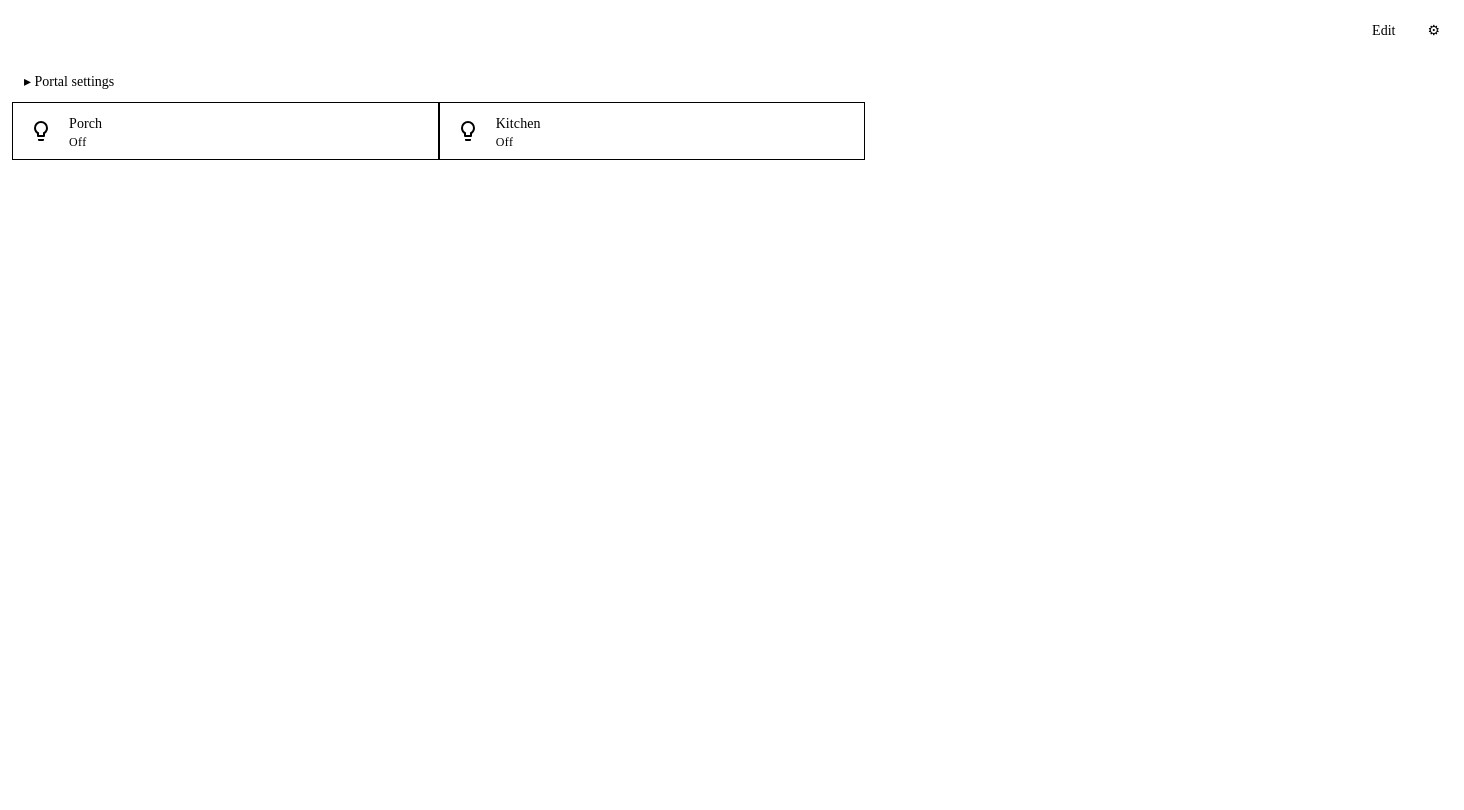
Scenario: Portal page › Edit mode › opens the tapped device editor instead of actuating it
Click the button "Edit": (1384, 30) [1360, 12, 1407, 49]
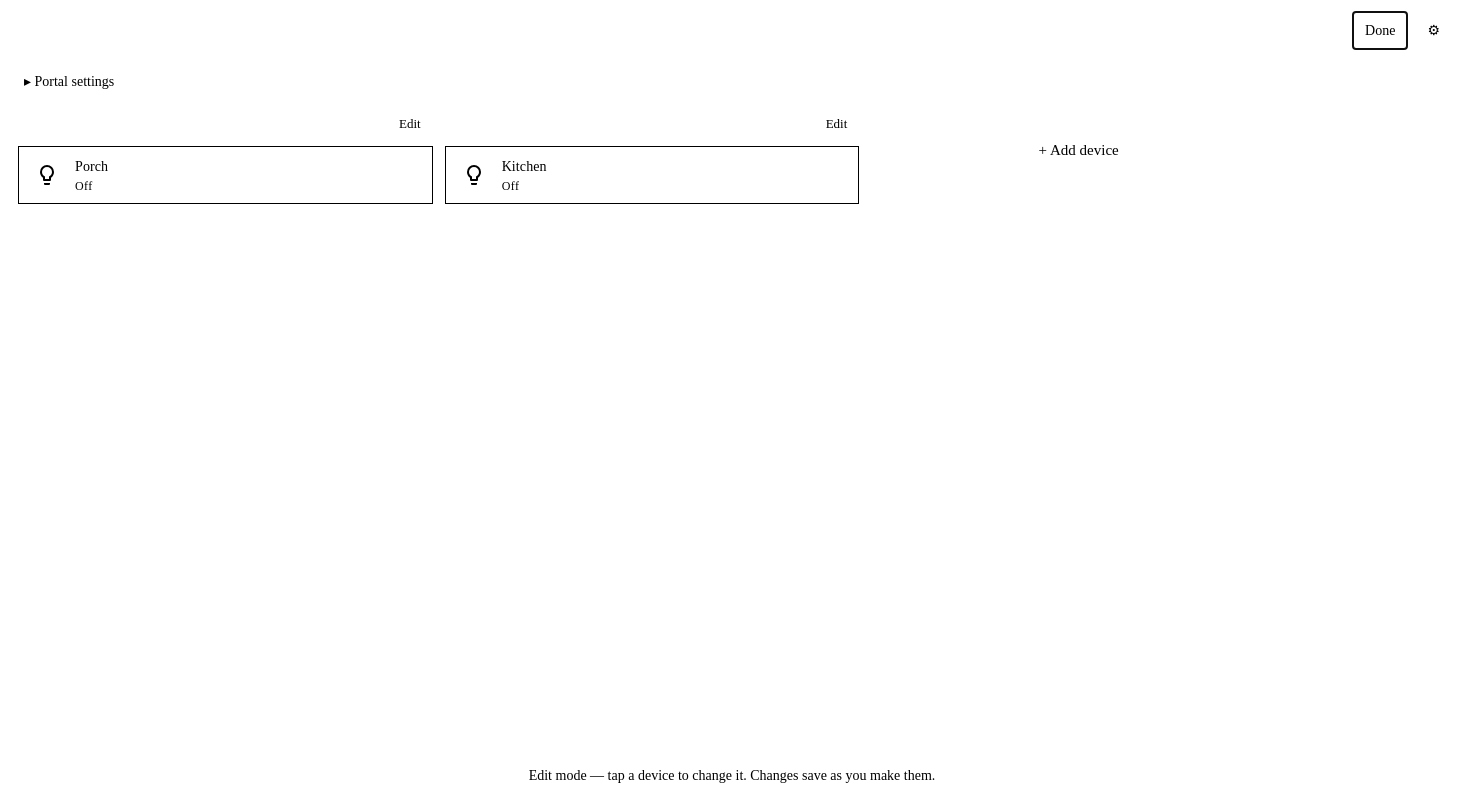
Now the button "Done" is shown, box [1353, 12, 1407, 49]
Click the button "Porch Off": (92, 167) [19, 146, 432, 202]
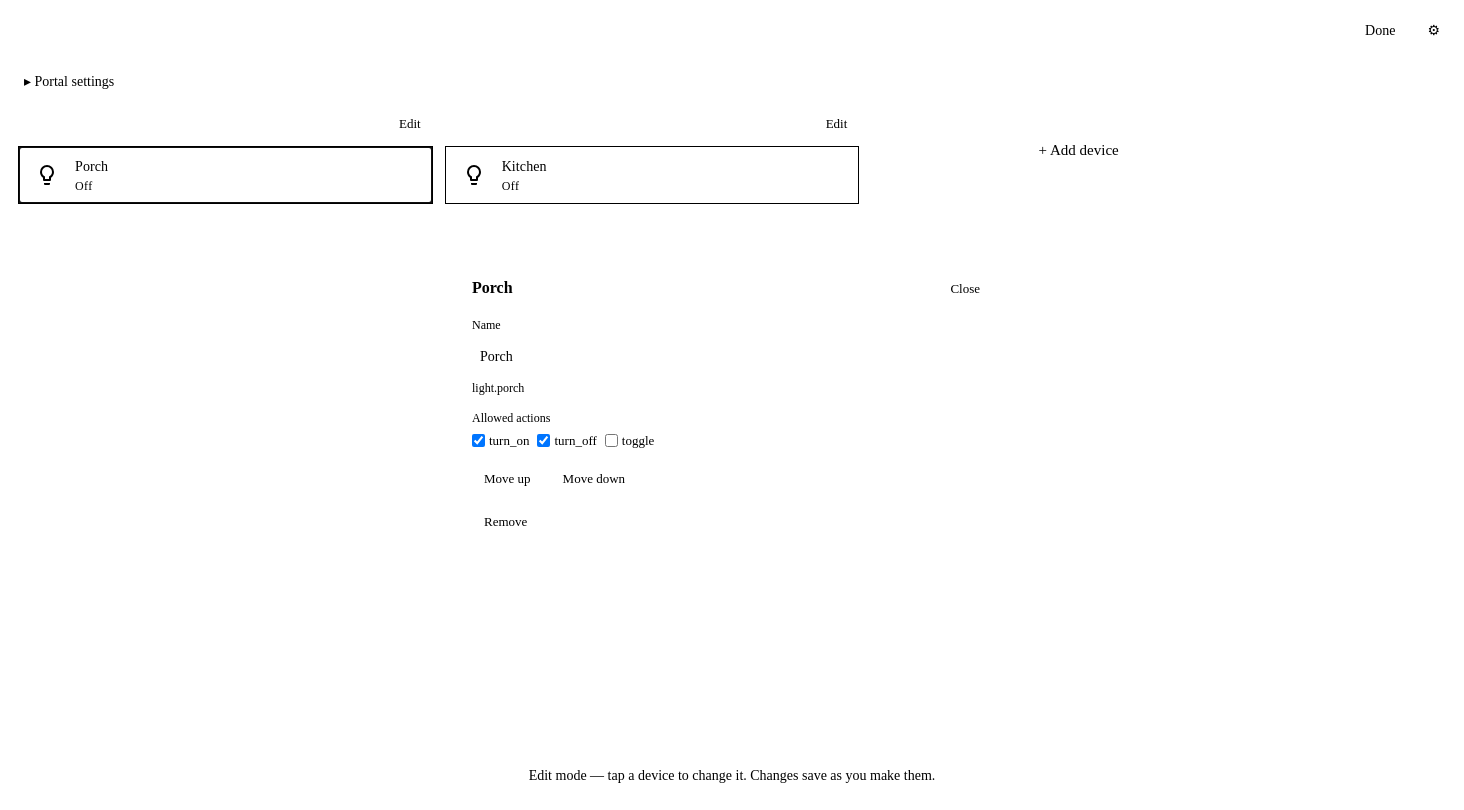
Now the heading "Porch" is shown, box [472, 276, 513, 300]
